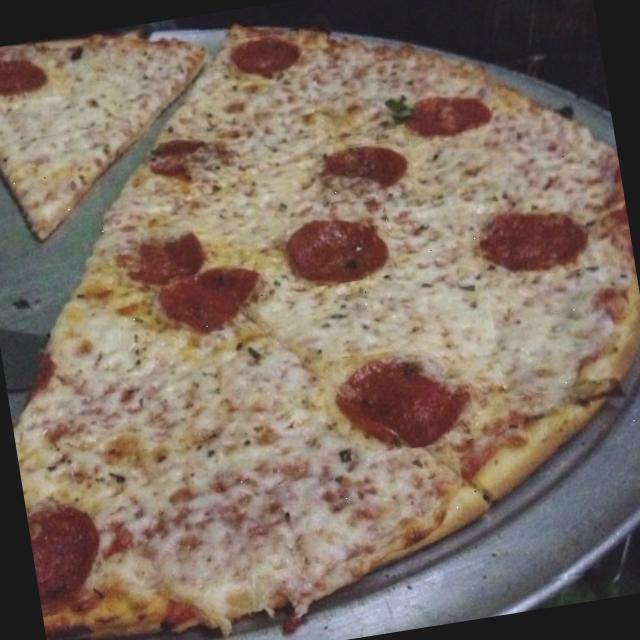basil: (386, 88, 418, 126)
cheese: (56, 312, 339, 500), (116, 411, 407, 592), (204, 61, 330, 230), (385, 194, 497, 366), (412, 126, 588, 225), (488, 271, 600, 398), (258, 287, 420, 371), (0, 79, 143, 149), (5, 129, 104, 228), (317, 70, 397, 140)
pepperoni: (334, 343, 477, 458), (475, 198, 593, 284), (278, 208, 394, 292), (26, 502, 110, 617), (160, 250, 262, 342), (310, 138, 418, 205), (404, 80, 496, 144), (119, 226, 212, 289), (148, 128, 232, 190), (233, 28, 305, 84), (0, 47, 54, 107)
pizza: (14, 28, 640, 640), (0, 36, 204, 240)
